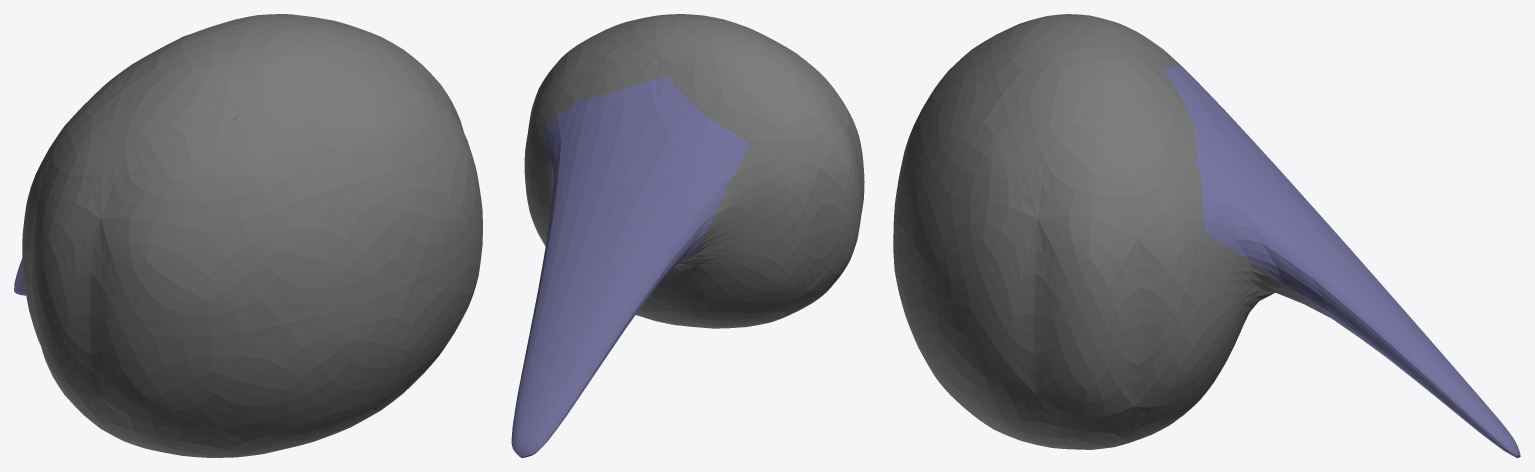
Rendered from gunbarrel.fbx.
3 renders of one model, left to right at view 1: azimuth 30°, elevation 25°; view 2: azimuth 150°, elevation 25°; view 3: azimuth 270°, elevation 25°, orthographic. The views are drawn at different scales.
Visible parts, largest first — view 1: GunBarrel; view 2: GunBarrel; view 3: GunBarrel.
Boxes of the visible parts, box(x1,y1,x2,y2) form: GunBarrel: box(14, 14, 482, 457); GunBarrel: box(511, 14, 864, 457); GunBarrel: box(893, 14, 1520, 457).
Size of the model in its own units: 0.6729 by 0.6418 by 0.8786.
1 material, 1 textured.
